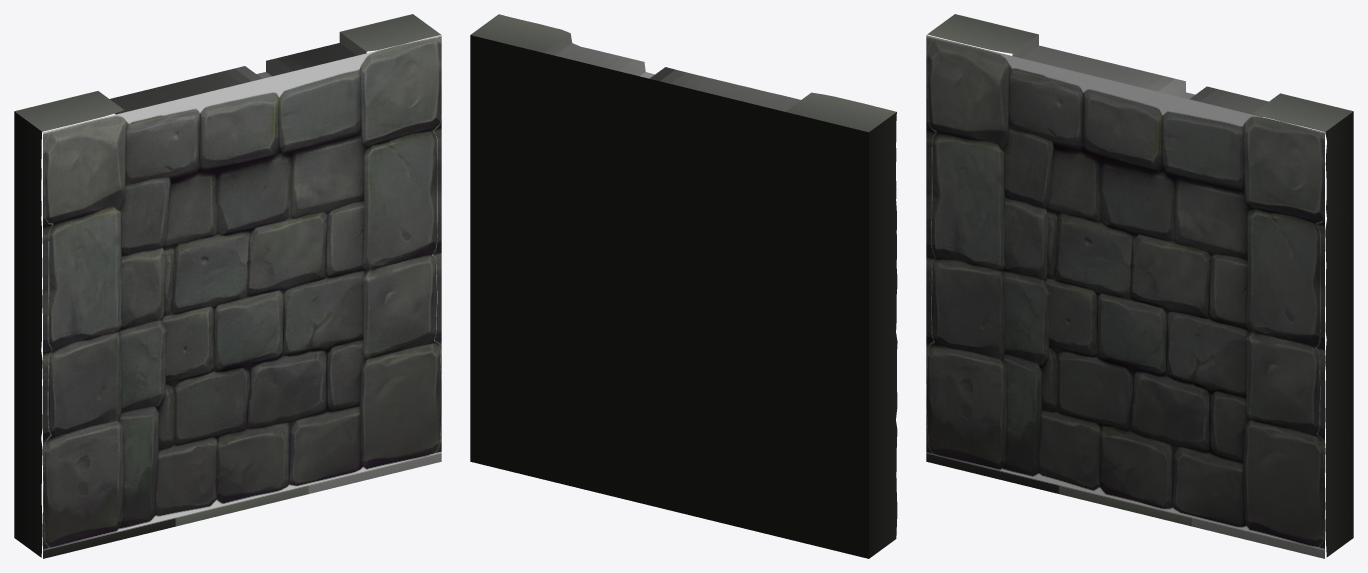
Rendered from wall_plain.glb.
3 renders of one model, left to right at view 1: azimuth 30°, elevation 25°; view 2: azimuth 150°, elevation 25°; view 3: azimuth 330°, elevation 25°, orthographic.
Parts seen in each view (by area): view 1: wall_plain; view 2: wall_plain; view 3: wall_plain.
Boxes of the visible parts, x1,y1,x2,y2 form: wall_plain: [14, 14, 441, 558]; wall_plain: [470, 14, 897, 558]; wall_plain: [926, 14, 1353, 558].
Size of the model in its own units: 2 by 2.05 by 0.25.
1 material, 1 textured.
